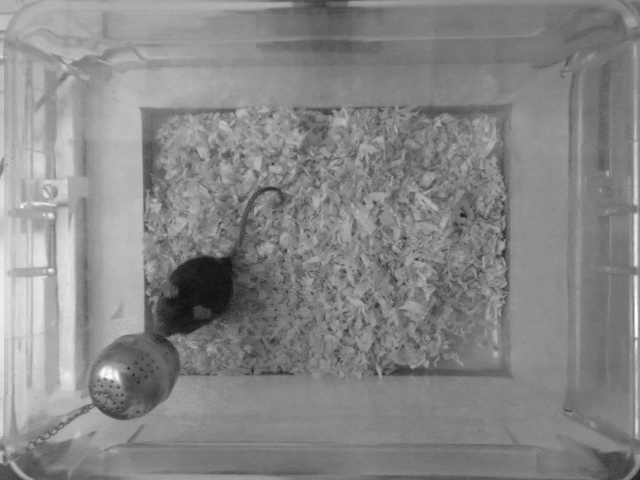mice: (150, 180, 288, 342)
